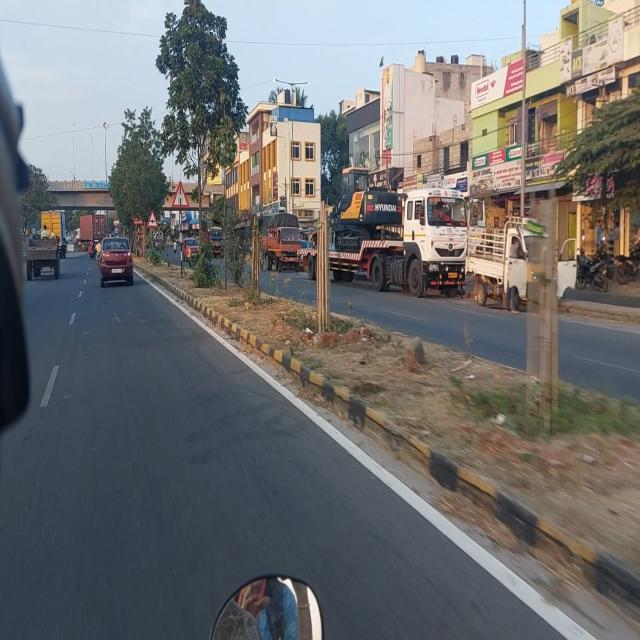bien_cam: (172, 178, 188, 210), (148, 209, 158, 229)
